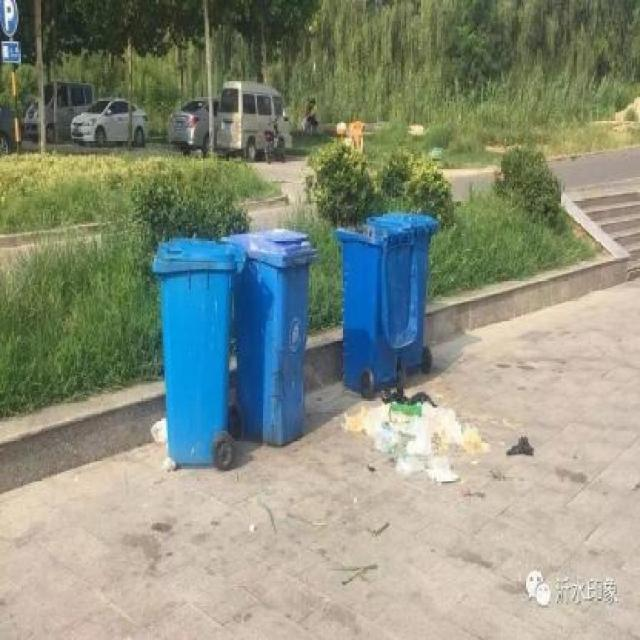garbage: (345, 389, 463, 489)
